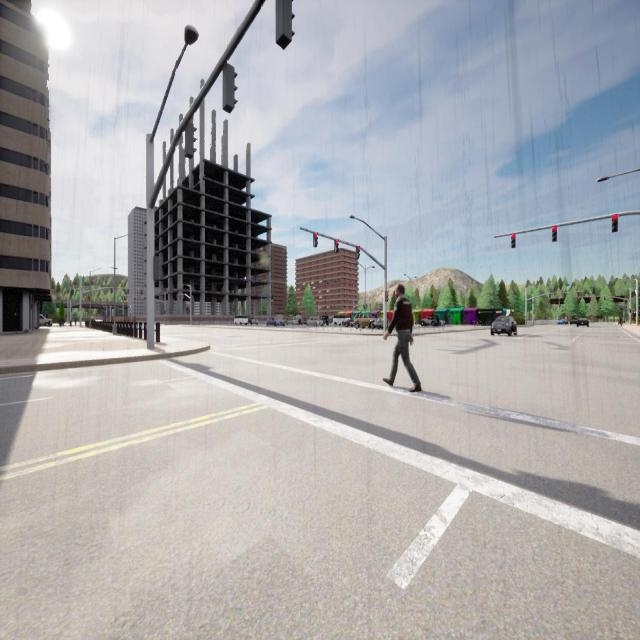Pedestrian: (383, 284, 421, 392)
Vehicle: (492, 316, 516, 336), (354, 314, 373, 328), (421, 315, 438, 326), (372, 317, 388, 328), (40, 314, 52, 326), (334, 315, 348, 325), (307, 317, 322, 326), (235, 315, 248, 325), (578, 316, 588, 326), (292, 317, 303, 326), (320, 315, 329, 326), (268, 320, 284, 326), (346, 320, 354, 328), (558, 319, 568, 324), (251, 318, 258, 325), (570, 318, 577, 324)
traffic_light: (276, 0, 294, 50), (223, 64, 238, 114), (185, 123, 197, 159), (153, 256, 161, 280), (612, 214, 618, 232), (510, 234, 516, 248), (552, 226, 557, 241), (313, 233, 317, 247), (356, 246, 360, 258), (335, 240, 338, 252), (385, 291, 388, 301), (124, 296, 126, 300), (164, 310, 166, 314), (604, 296, 606, 300), (134, 297, 136, 300), (578, 296, 580, 299), (630, 309, 631, 313), (590, 296, 591, 298)
